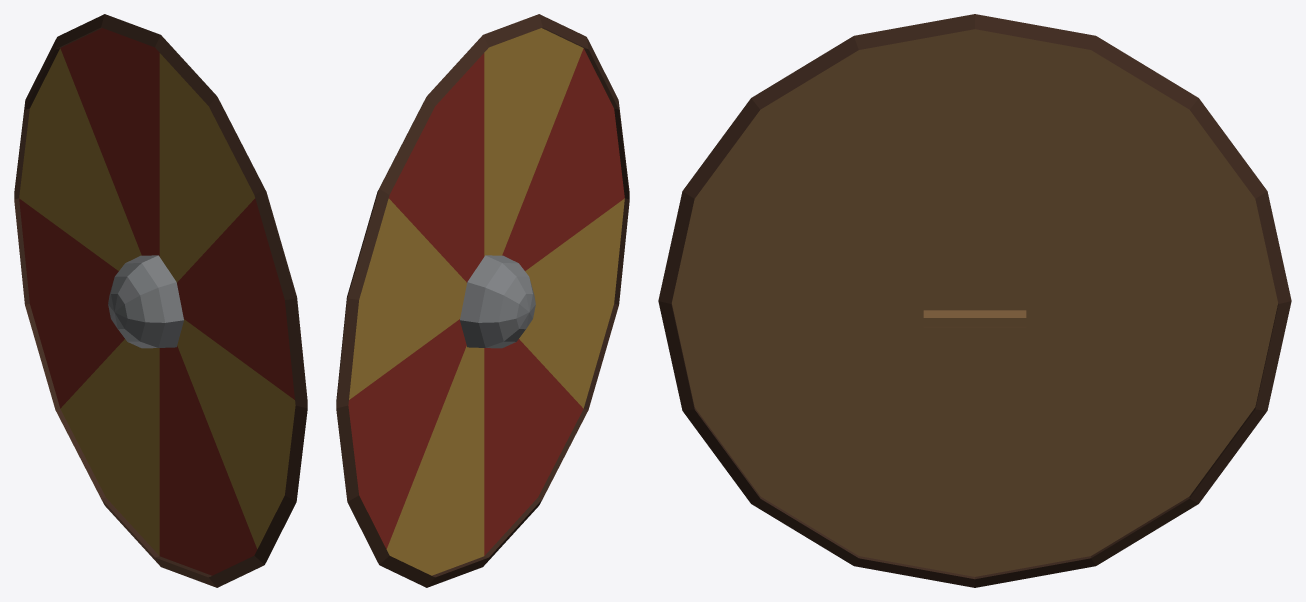
The model's file is f5_skjold.glb.
The picture shows the model from 3 angles, left to right: view 1: azimuth 30°, elevation 25°; view 2: azimuth 150°, elevation 25°; view 3: azimuth 270°, elevation 25°; orthographic projection. The views are drawn at different scales.
Visible parts, largest first — view 1: F_rundt_skjold; view 2: F_rundt_skjold; view 3: F_rundt_skjold.
Boxes of the visible parts, x1,y1,x2,y2 form: F_rundt_skjold: (14, 14, 307, 587); F_rundt_skjold: (336, 14, 629, 587); F_rundt_skjold: (658, 14, 1291, 587).
Bounding box in the file's own units: 0.1483 × 0.864 × 0.864.
